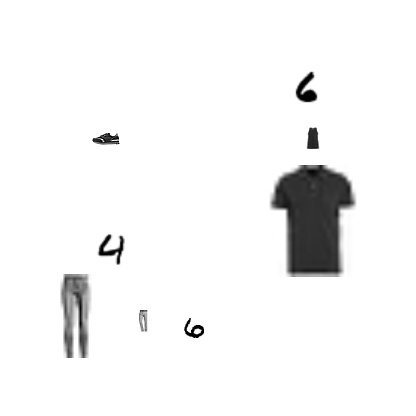4: (90, 227, 132, 269)
6: (284, 69, 326, 111), (179, 316, 207, 344)
Sneaker: (92, 124, 120, 152)
T-shirt/top: (255, 165, 367, 277), (302, 127, 324, 149)
Trouser: (34, 274, 118, 358), (132, 310, 154, 332)
